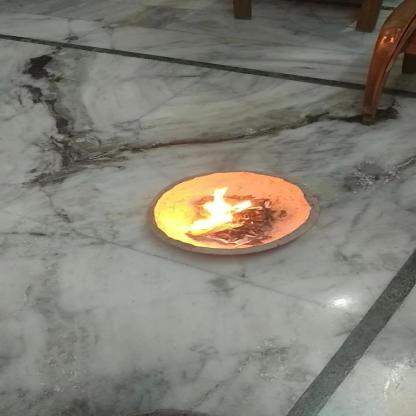fire: (190, 185, 256, 236)
